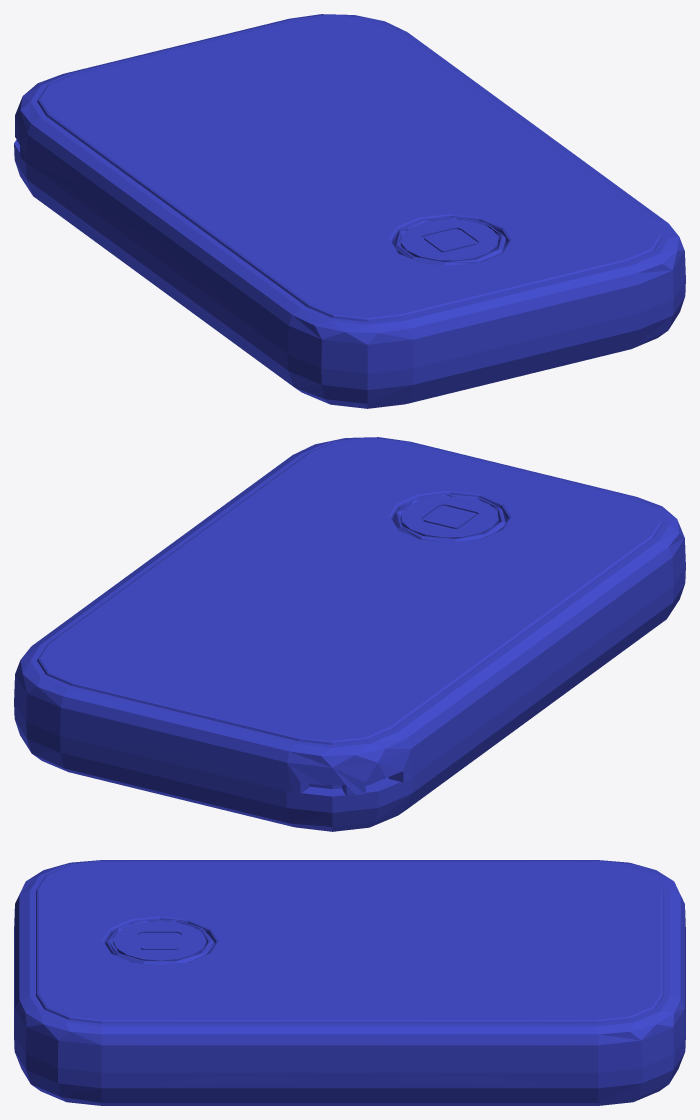
The model's file is YunjiaBlue.obj.
3 renders of one model, top to bottom at view 1: azimuth 30°, elevation 25°; view 2: azimuth 150°, elevation 25°; view 3: azimuth 270°, elevation 25°, orthographic. The views are drawn at different scales.
Visible parts, largest first — view 1: Object.1; view 2: Object.1; view 3: Object.1.
Boxes of the visible parts, bbox=[...] form: Object.1: bbox=[14, 14, 685, 408]; Object.1: bbox=[14, 437, 685, 831]; Object.1: bbox=[14, 860, 685, 1105].
Size of the model in its own units: 29 by 7 by 46.
